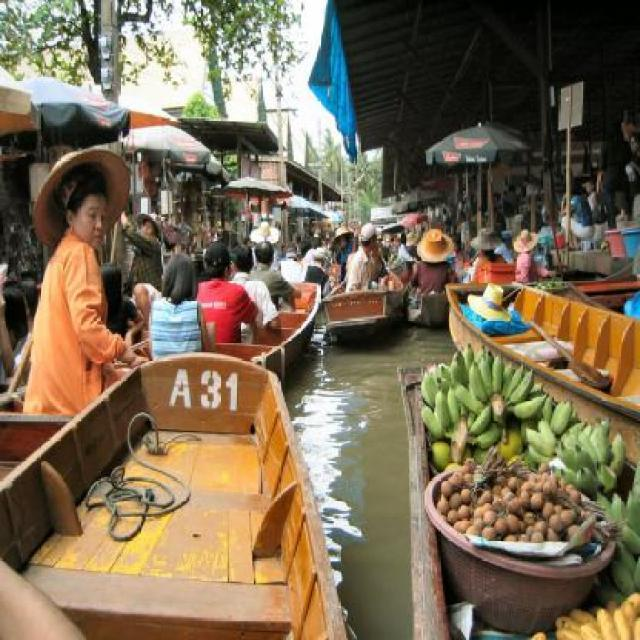Banana: (417, 341, 639, 640)
